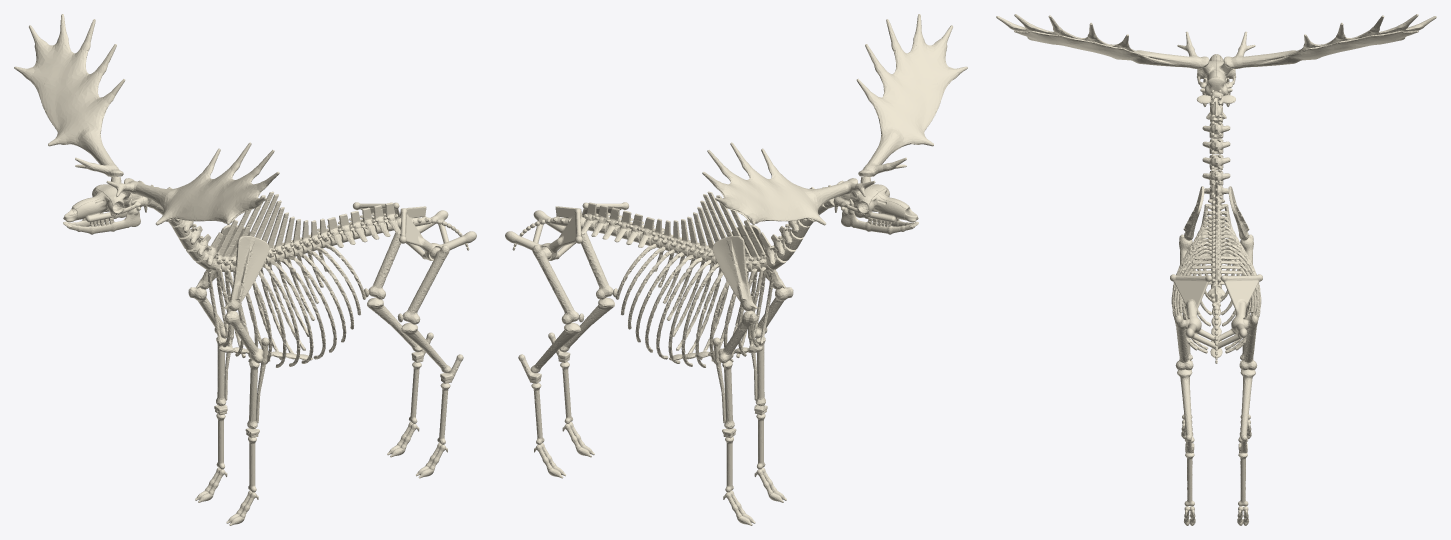
Rendered from giant_deer_all.glb.
3 renders of one model, left to right at view 1: azimuth 30°, elevation 25°; view 2: azimuth 150°, elevation 25°; view 3: azimuth 270°, elevation 25°, orthographic. The views are drawn at different scales.
Visible parts, largest first — view 1: antler_r, antler_l, scapula_l, hip_l, femur_l, mandible_l, maxilla_l, hip_r, femur_r, humerus_l, tibia_l, tibia_r (+2 smaller); view 2: antler_l, antler_r, scapula_r, hip_r, femur_r, mandible_r, maxilla_r, hip_l, femur_l, humerus_r, tibia_r, tibia_l (+2 smaller); view 3: antler_l, antler_r, hip_l, hip_r, femur_l, femur_r, tibia_l, tibia_r.
Boxes of the visible parts, x1,y1,x2,y2 form: antler_r: (14,14,125,176); antler_l: (106,142,279,225); scapula_l: (224,236,269,310); hip_l: (399,208,476,260); femur_l: (402,245,449,324); mandible_l: (64,199,140,234); maxilla_l: (75,194,120,225); hip_r: (353,202,448,257); femur_r: (368,232,400,299); humerus_l: (224,310,263,363); tibia_l: (401,322,451,373); tibia_r: (367,297,422,352); antler_l: (856,14,967,176); antler_r: (702,142,875,225); scapula_r: (712,236,757,310); hip_r: (505,208,582,260); femur_r: (532,245,579,324); mandible_r: (841,199,917,234); maxilla_r: (861,194,906,225); hip_l: (533,202,628,257); femur_l: (581,232,613,299); humerus_r: (718,310,757,363); tibia_r: (530,322,580,373); tibia_l: (559,297,614,352); antler_l: (996,14,1209,68); antler_r: (1223,14,1436,68); hip_l: (1170,274,1215,349); hip_r: (1217,274,1262,349); femur_l: (1174,315,1193,370); femur_r: (1239,315,1258,370); tibia_l: (1177,369,1194,442); tibia_r: (1238,369,1255,442).
Size of the model in its own units: 5.06 by 5.2 by 5.12.
